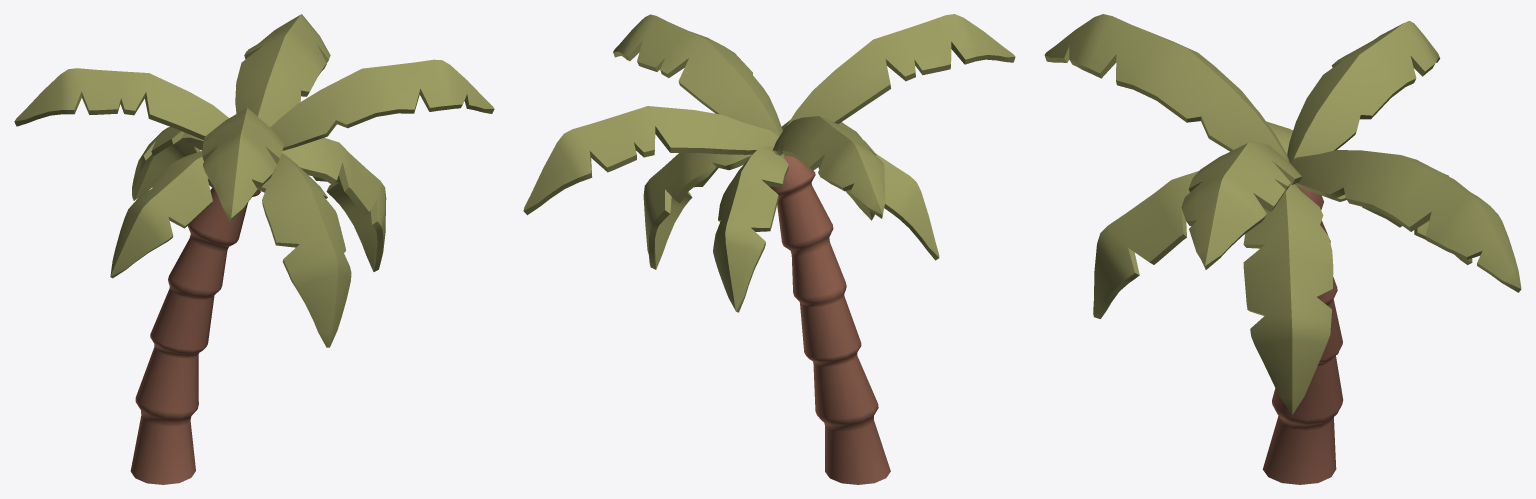
Rendered from beach_palm_1.glb.
3 renders of one model, left to right at view 1: azimuth 30°, elevation 25°; view 2: azimuth 150°, elevation 25°; view 3: azimuth 270°, elevation 25°, orthographic. The views are drawn at different scales.
Visible parts, largest first — view 1: Environment_PalmTree_2; view 2: Environment_PalmTree_2; view 3: Environment_PalmTree_2.
Boxes of the visible parts, x1,y1,x2,y2 form: Environment_PalmTree_2: [14, 14, 494, 484]; Environment_PalmTree_2: [523, 14, 1015, 484]; Environment_PalmTree_2: [1044, 14, 1521, 484].
Size of the model in its own units: 2.64 by 2.69 by 2.58.
1 material, 1 textured.
